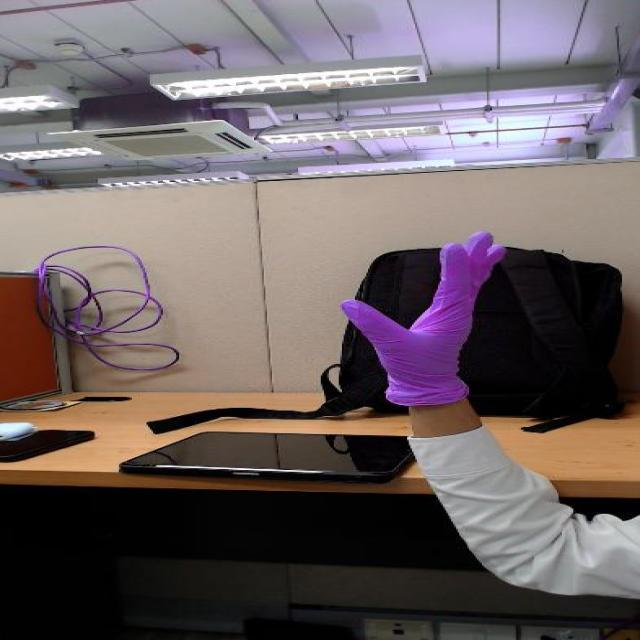gloved_hand: (324, 223, 518, 373)
